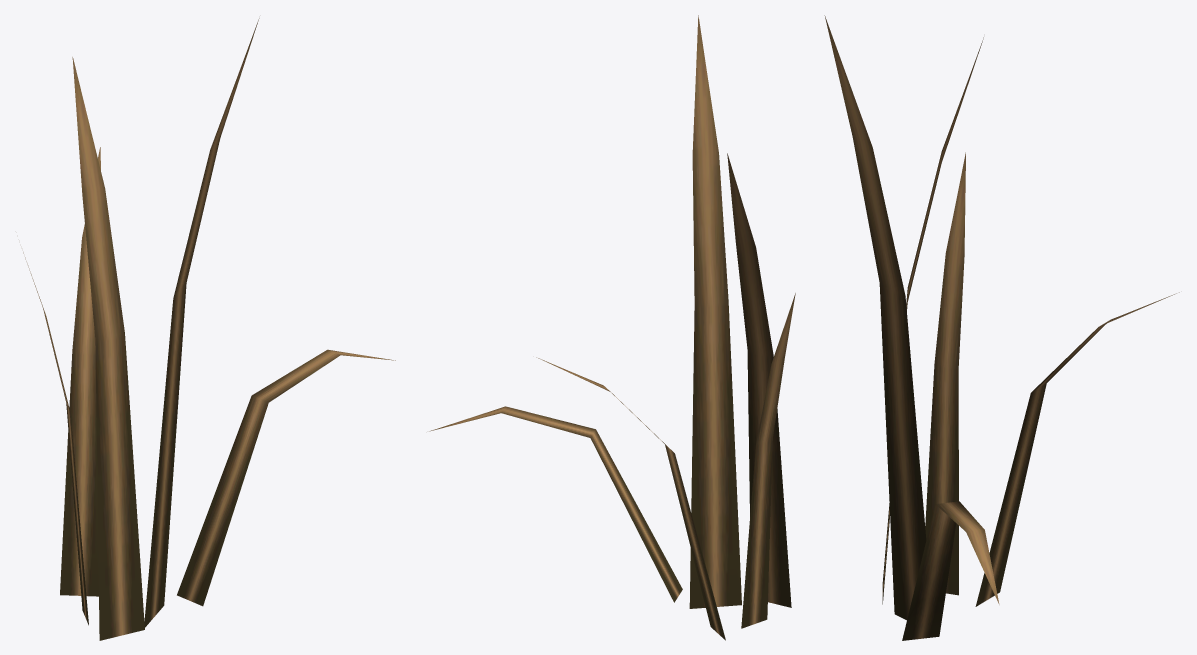
File: INST_OH_NGRASS_TUFT_03.obj
3 views of the same model, side by side, from view 1: azimuth 30°, elevation 25°; view 2: azimuth 150°, elevation 25°; view 3: azimuth 270°, elevation 25° (orthographic). The views are drawn at different scales.
Visible parts, largest first — view 1: t_grass_tuft_3_; view 2: t_grass_tuft_3_; view 3: t_grass_tuft_3_.
Boxes of the visible parts, bbox=[...] form: t_grass_tuft_3_: bbox=[23, 18, 395, 640]; t_grass_tuft_3_: bbox=[429, 15, 795, 640]; t_grass_tuft_3_: bbox=[824, 15, 1179, 640].
Bounding box in the file's own units: 22.27 × 32.99 × 16.67.
